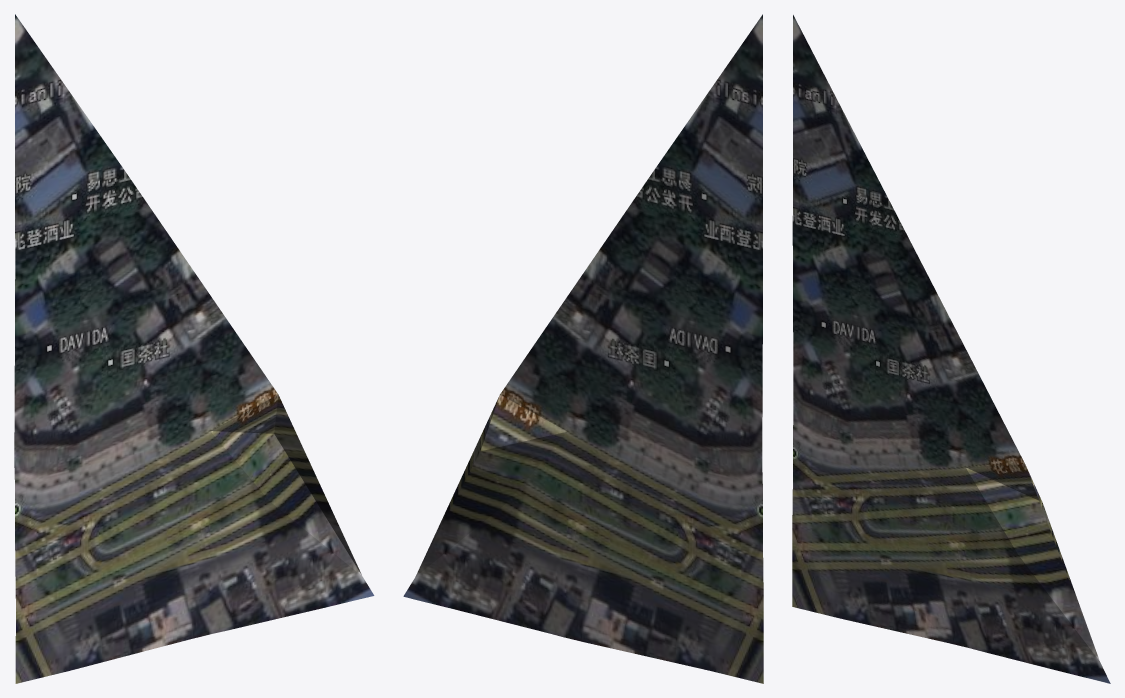
3 views of the same model, side by side, from view 1: azimuth 30°, elevation 25°; view 2: azimuth 150°, elevation 25°; view 3: azimuth 330°, elevation 25° (orthographic). The views are drawn at different scales.
Parts seen in each view (by area): view 1: 0_3_0_2_0_1; view 2: 0_3_0_2_0_1; view 3: 0_3_0_2_0_1.
Part boxes in pixels (<box>): 0_3_0_2_0_1: <box>14,14,374,683</box>; 0_3_0_2_0_1: <box>403,14,763,683</box>; 0_3_0_2_0_1: <box>792,15,1110,683</box>.
Bounding box in the file's own units: 145 × 259 × 8.6.
Materials: 1 (1 with a texture image).
